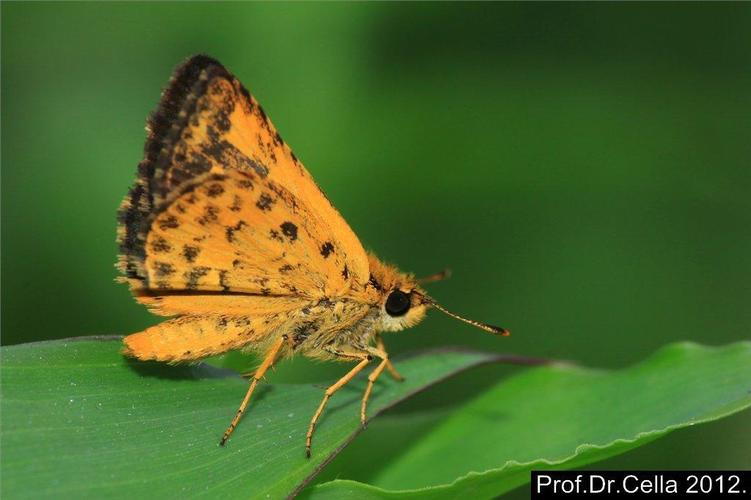Hesperiidae: (113, 53, 507, 460)
